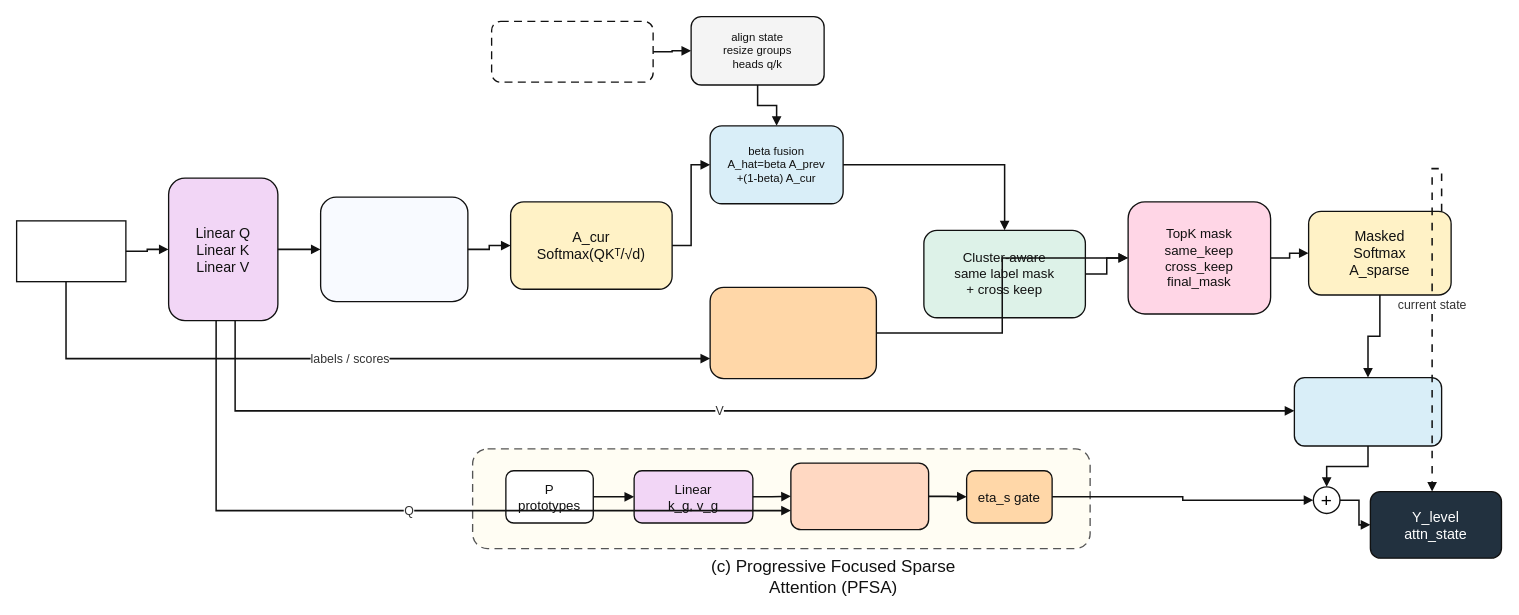
Image size: 1519x615. Some labels were removed from this diagram. The shapes that lost their labels are listed below. From the top down, each one's box as (x1, y1, x2, y2) in pixels, then its label:
(490, 20, 653, 82): Prev attn state A_{t-1}^s
(15, 220, 126, 282): X_level labels scores
(319, 196, 468, 302): 2G sliding windows q: G k,v: 2G
(709, 286, 877, 379): Dynamic focus r purity(labels) var(scores) clip(.25,.75)
(1293, 376, 1442, 446): Local output A_sparse · V Linear proj
(790, 462, 929, 530): Global center attention Q ↔ P
